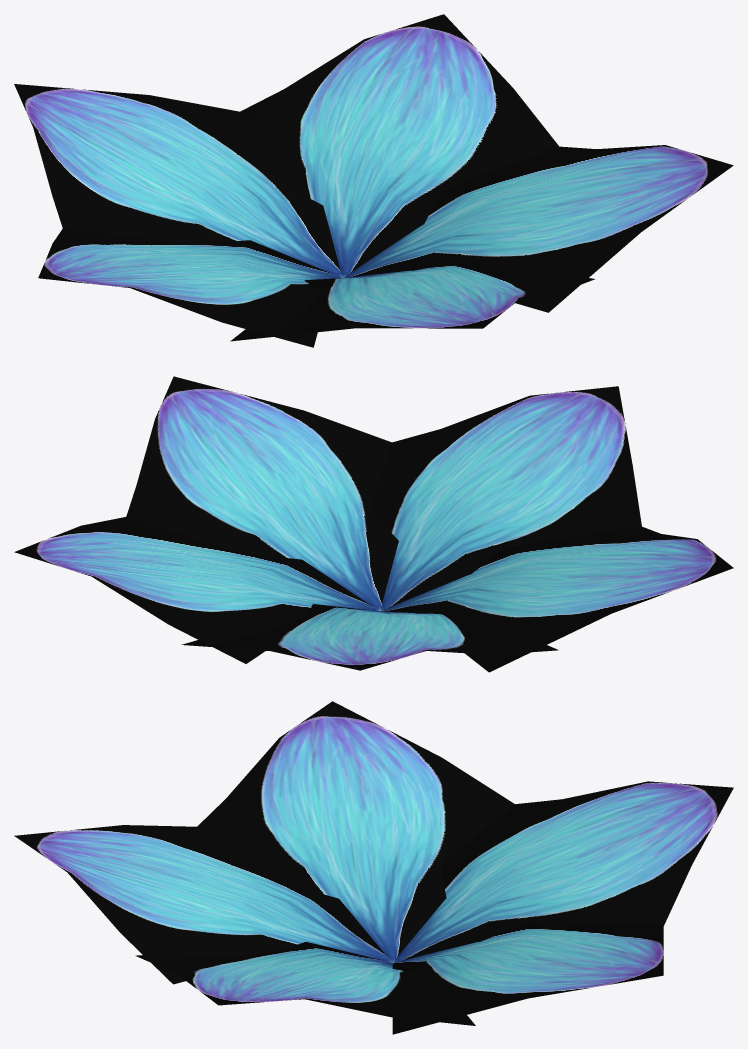
The model's file is flor.fbx.
3 views of the same model, one above another, from view 1: azimuth 30°, elevation 25°; view 2: azimuth 150°, elevation 25°; view 3: azimuth 270°, elevation 25° (orthographic). The views are drawn at different scales.
Parts seen in each view (by area): view 1: pPlane2, pPlane3, pPlane6, pPlane4, pPlane5, pPlane1; view 2: pPlane6, pPlane5, pPlane2, pPlane4, pPlane3; view 3: pPlane4, pPlane3, pPlane5, pPlane2, pPlane6.
Part boxes in pixels (x1,y1,x2,y2): pPlane2: (239, 14, 558, 277); pPlane3: (14, 84, 342, 277); pPlane6: (343, 145, 733, 312); pPlane4: (38, 229, 341, 347); pPlane5: (230, 260, 595, 341); pPlane1: (239, 14, 556, 189); pPlane6: (126, 376, 398, 610); pPlane5: (372, 386, 641, 610); pPlane2: (14, 517, 379, 663); pPlane4: (381, 526, 733, 672); pPlane3: (181, 604, 558, 670); pPlane4: (197, 701, 514, 962); pPlane3: (393, 781, 733, 962); pPlane5: (14, 825, 391, 984); pPlane2: (392, 922, 663, 1033); pPlane6: (135, 942, 475, 1025).
Bounding box in the file's own units: 26.57 × 4.14 × 26.57.
1 material, 1 textured.
